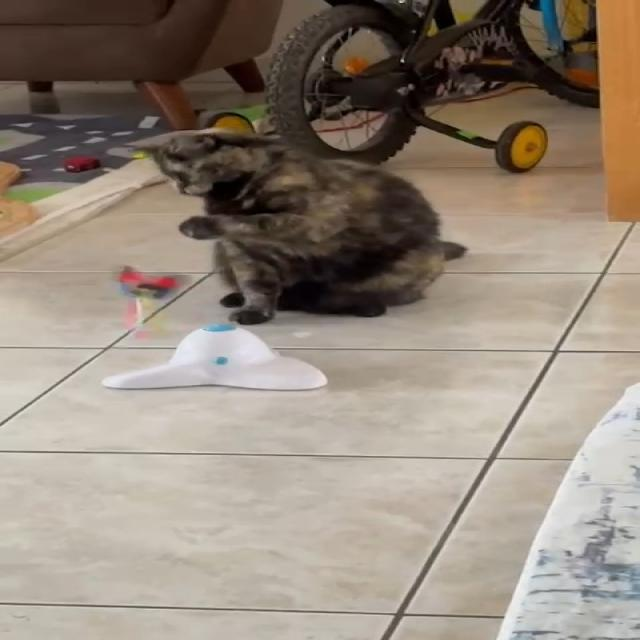authorized: (133, 131, 468, 325)
